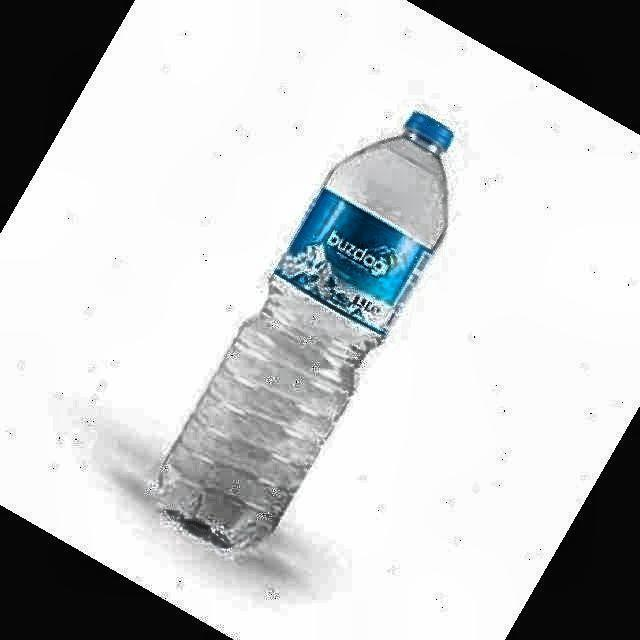plastic: (159, 112, 452, 548)
